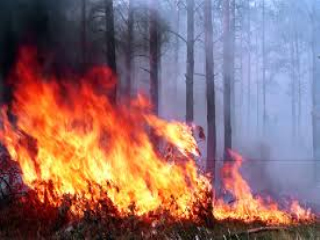fire: (6, 62, 312, 226)
